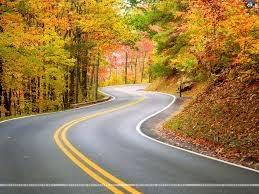road: (0, 84, 258, 192)
